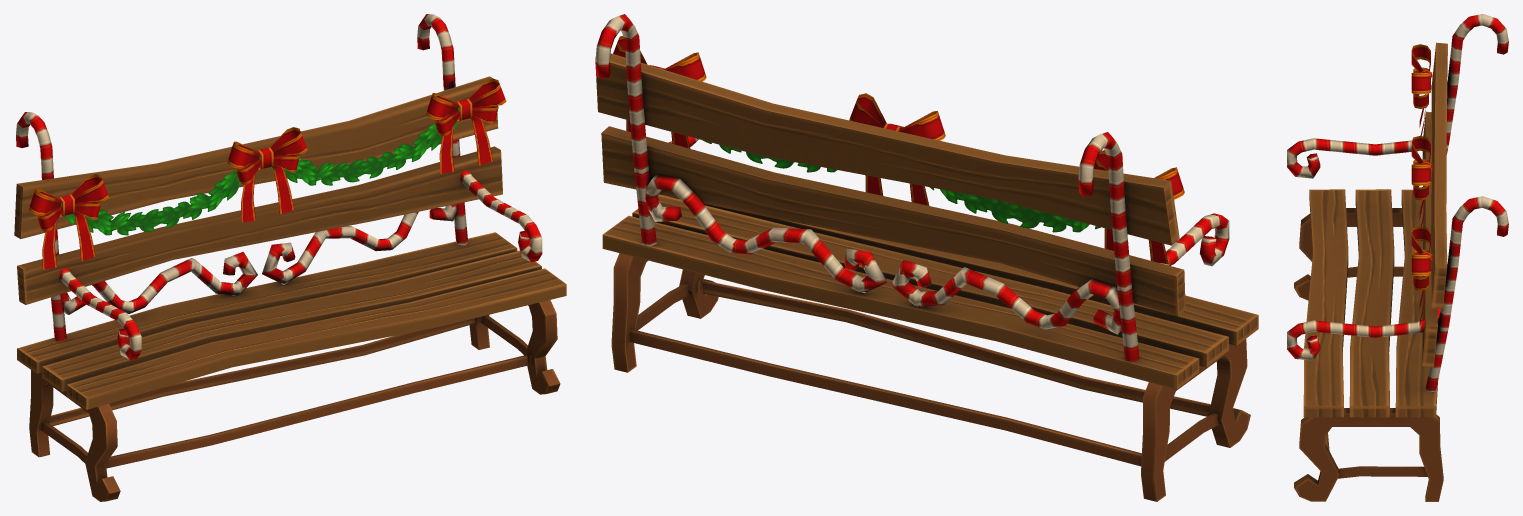
Rendered from Bench.FBX.
3 renders of one model, left to right at view 1: azimuth 30°, elevation 25°; view 2: azimuth 150°, elevation 25°; view 3: azimuth 270°, elevation 25°, orthographic. The views are drawn at different scales.
Visible parts, largest first — view 1: Line027; view 2: Line027; view 3: Line027.
Boxes of the visible parts, x1,y1,x2,y2 form: Line027: [14, 14, 566, 501]; Line027: [595, 14, 1258, 501]; Line027: [1287, 14, 1508, 501].
Bounding box in the file's own units: 78.61 × 49.61 × 33.9.
1 material, 1 textured.
